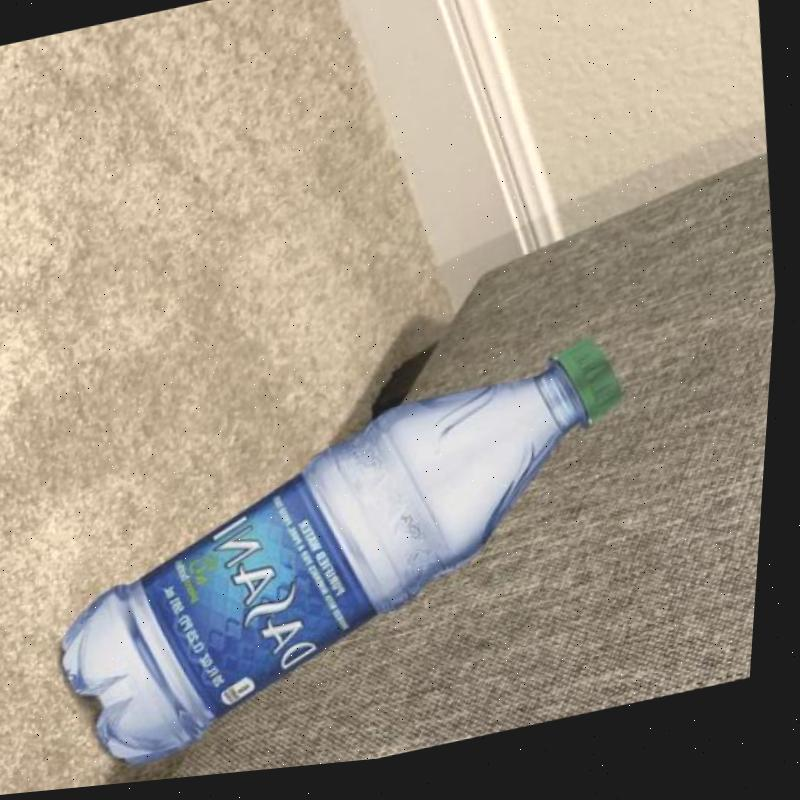botella: (29, 340, 667, 785)
